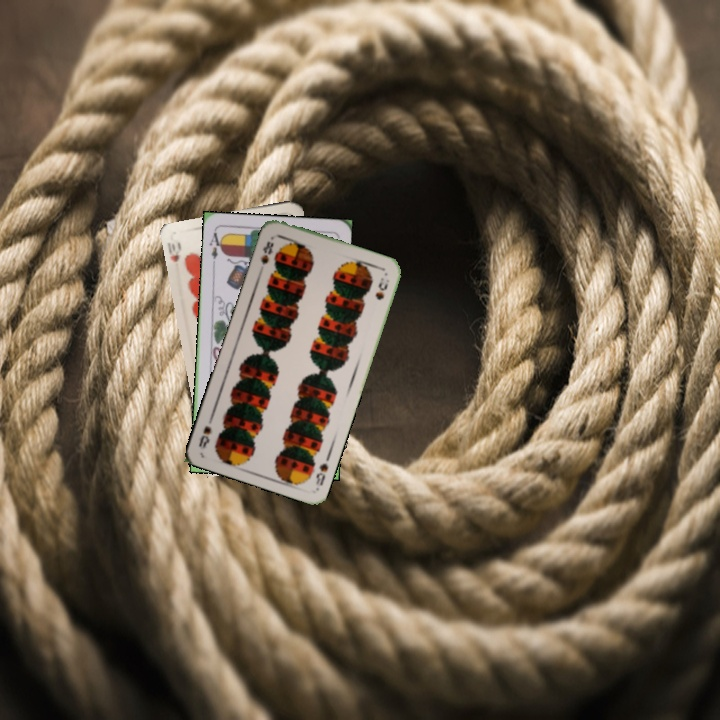EA: (205, 227, 226, 261)
H10: (163, 237, 184, 265)
S8: (255, 237, 276, 267), (312, 459, 331, 488)
